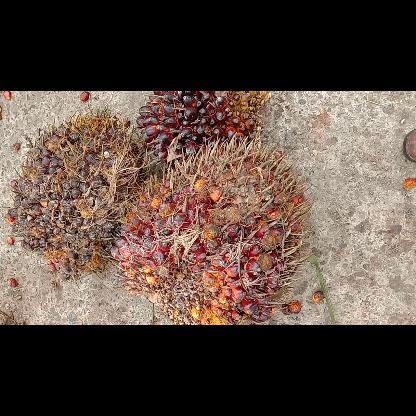Kurang masak: (6, 110, 138, 278), (134, 90, 266, 158)
TBS masak: (112, 134, 312, 324)
